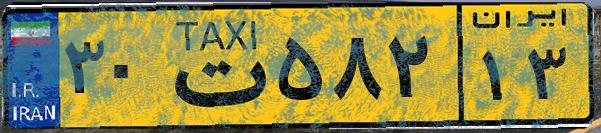0: (110, 28, 158, 98)
1: (475, 38, 525, 113)
2: (385, 28, 445, 110)
3: (57, 26, 110, 100), (525, 38, 570, 115)
5: (270, 28, 330, 110)
8: (330, 28, 385, 110)
ت: (158, 12, 270, 120)
